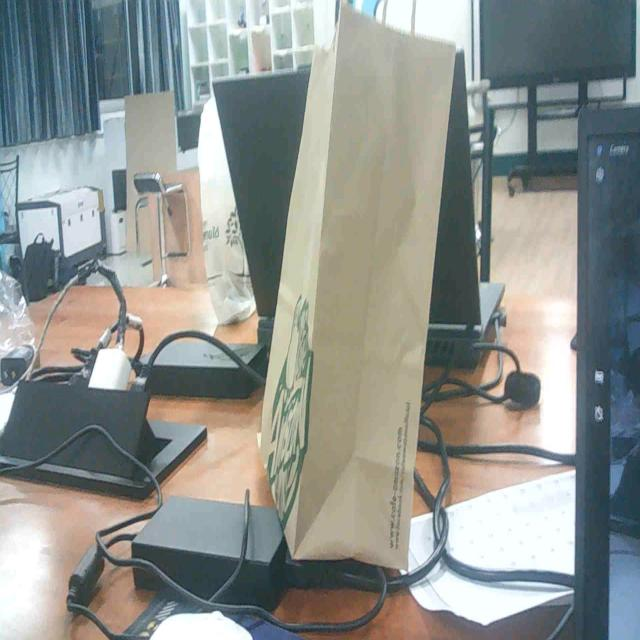bag: (255, 9, 459, 598)
